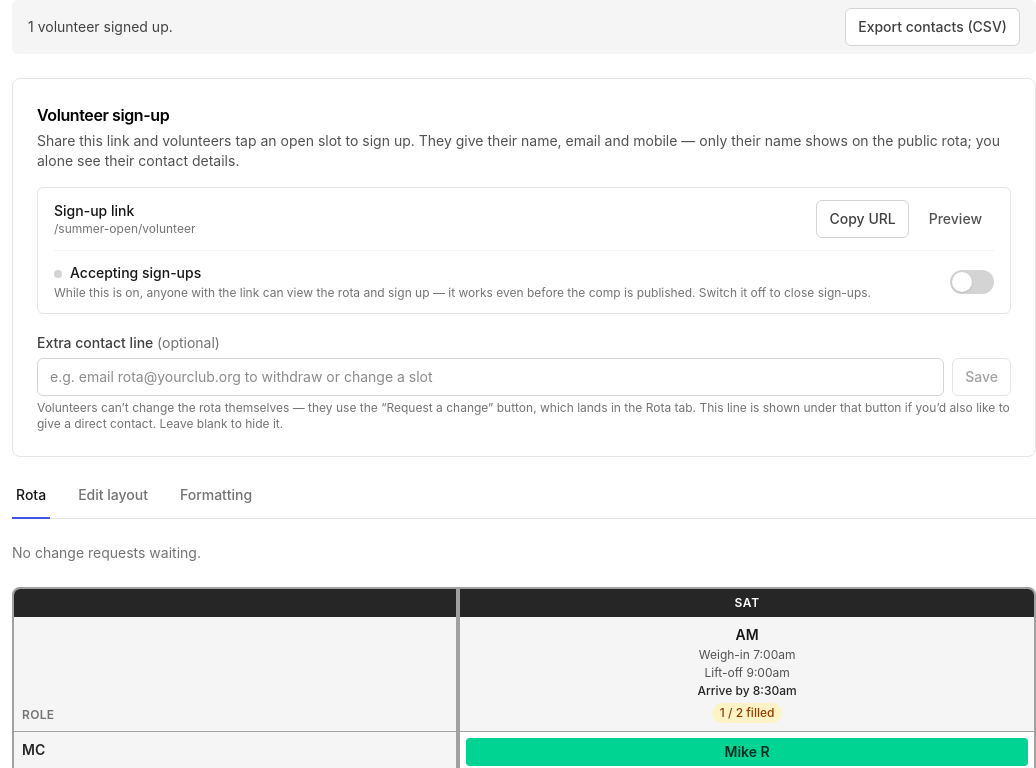
Scenario: RotaBuilder — layout › shows a session column's heading read-only, pointing to Sessions & flights
Click the tab "Edit layout". click: coordinates (113, 500)
box: [74,481,152,519]
(page scrolled)
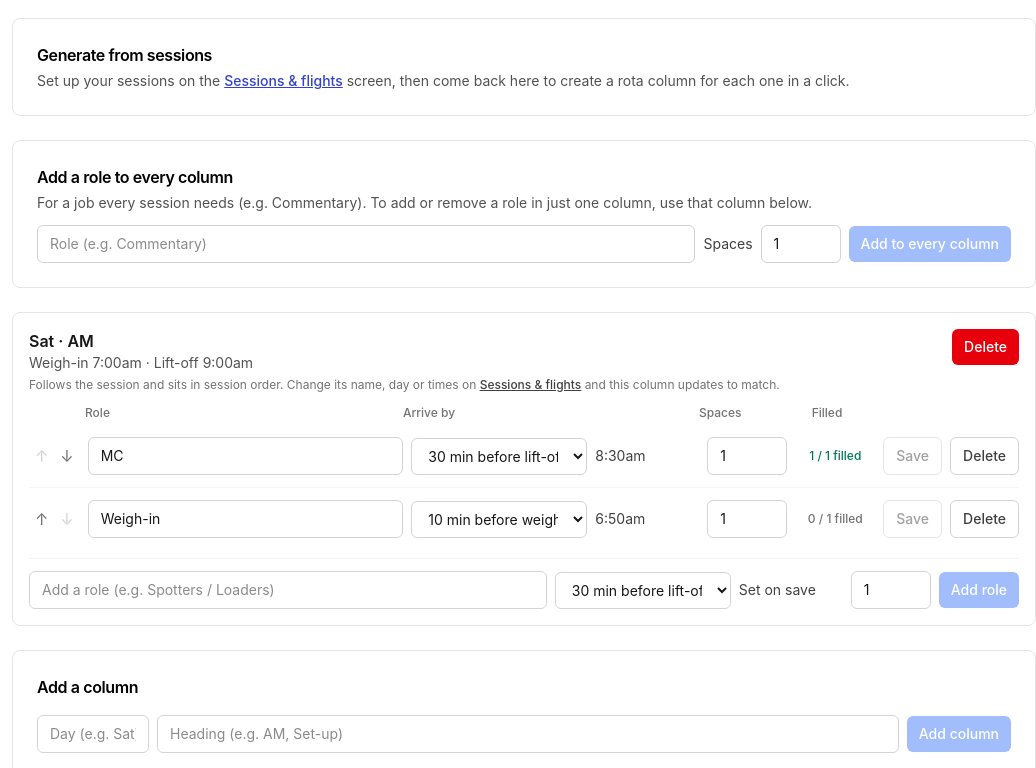
Expected: the text "Follows the session" is shown, [29,377,476,392]
